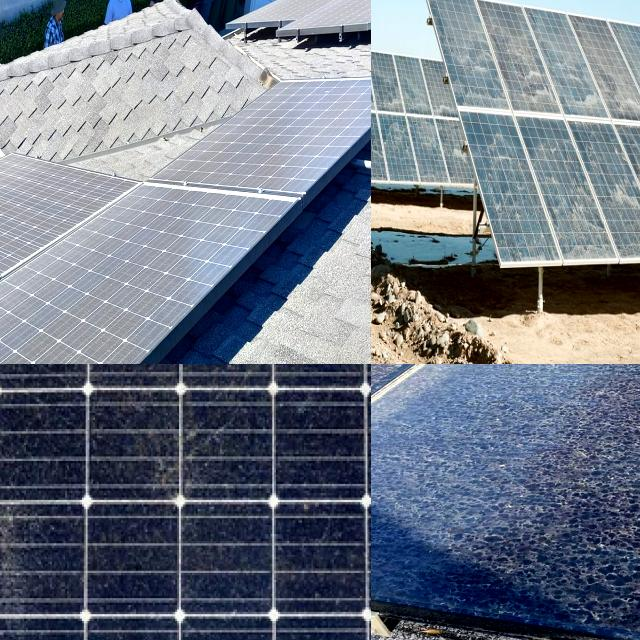dust: (424, 378, 582, 603), (0, 516, 176, 640), (179, 529, 371, 640), (189, 389, 371, 489), (498, 121, 588, 269), (585, 399, 640, 614), (0, 364, 84, 502), (94, 394, 182, 498), (452, 11, 540, 110), (371, 61, 455, 161), (550, 20, 629, 120), (52, 240, 186, 298), (371, 422, 417, 582), (160, 180, 250, 250), (371, 364, 541, 398), (0, 297, 78, 364), (268, 90, 332, 158), (564, 364, 640, 419), (605, 133, 640, 245), (0, 266, 66, 312), (68, 190, 142, 228), (0, 189, 51, 238), (371, 72, 398, 155), (222, 123, 258, 174), (371, 364, 399, 404), (371, 77, 383, 133)
